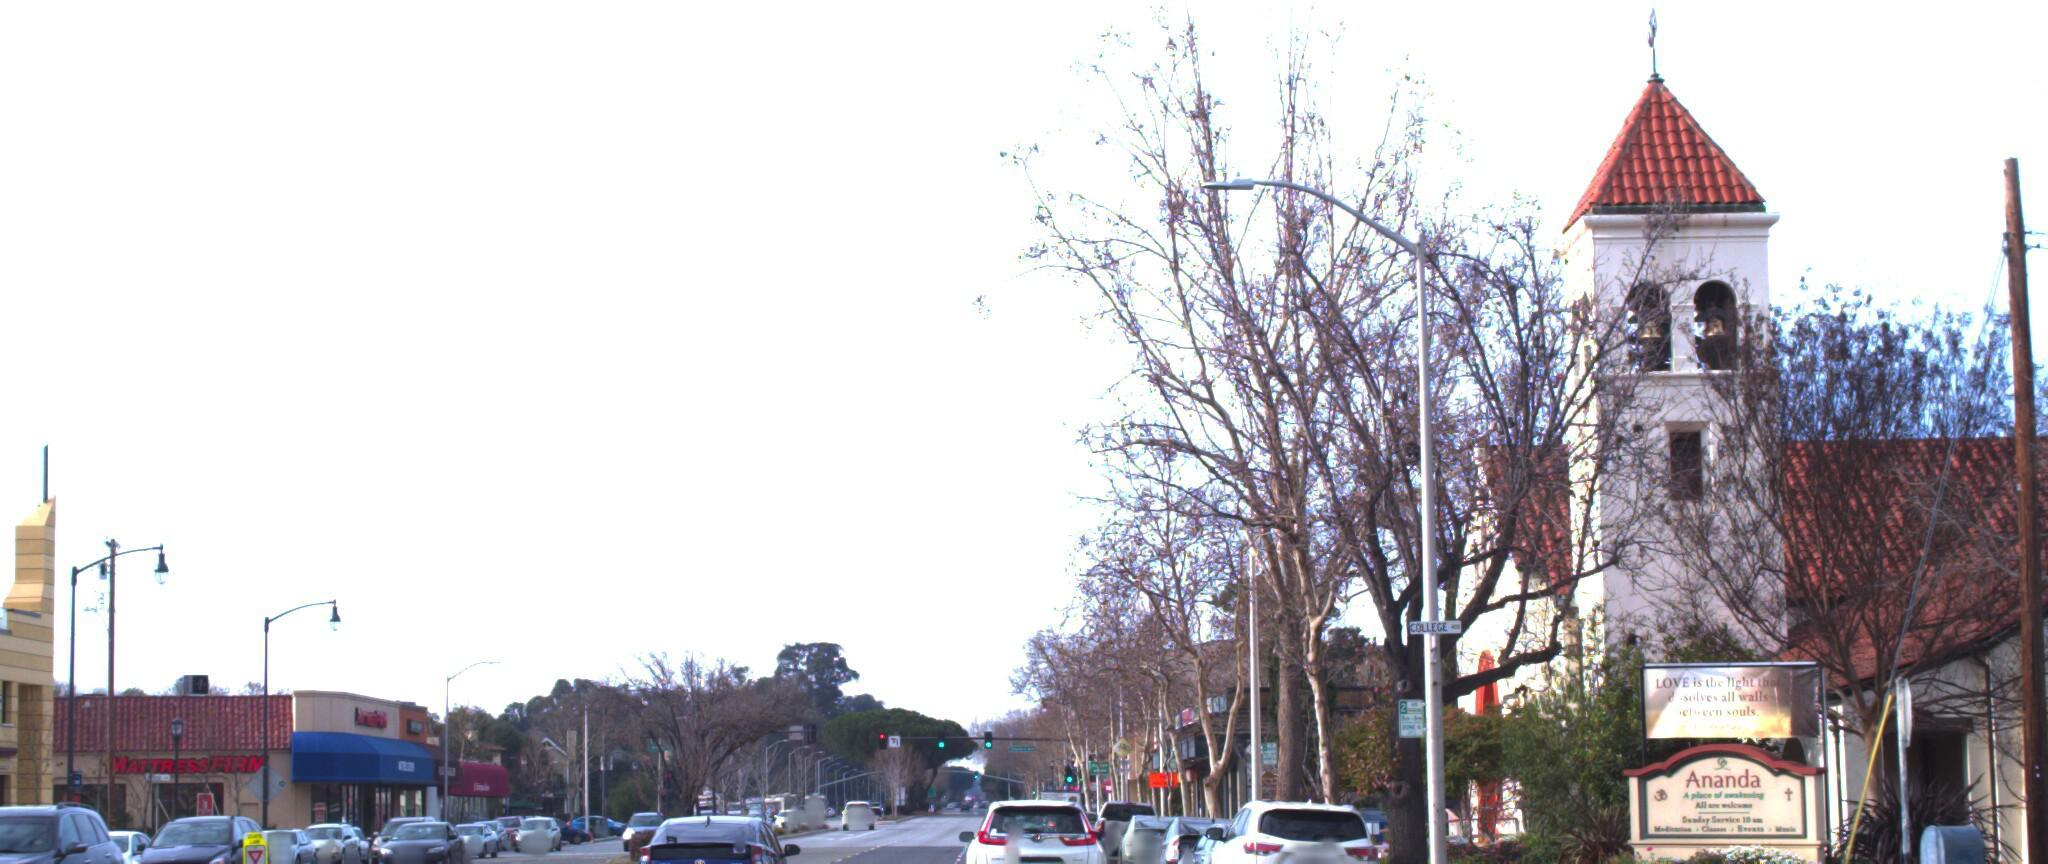car: (1191, 794, 1383, 864), (957, 797, 1098, 864), (119, 808, 266, 864), (0, 799, 121, 864), (623, 820, 795, 864)
